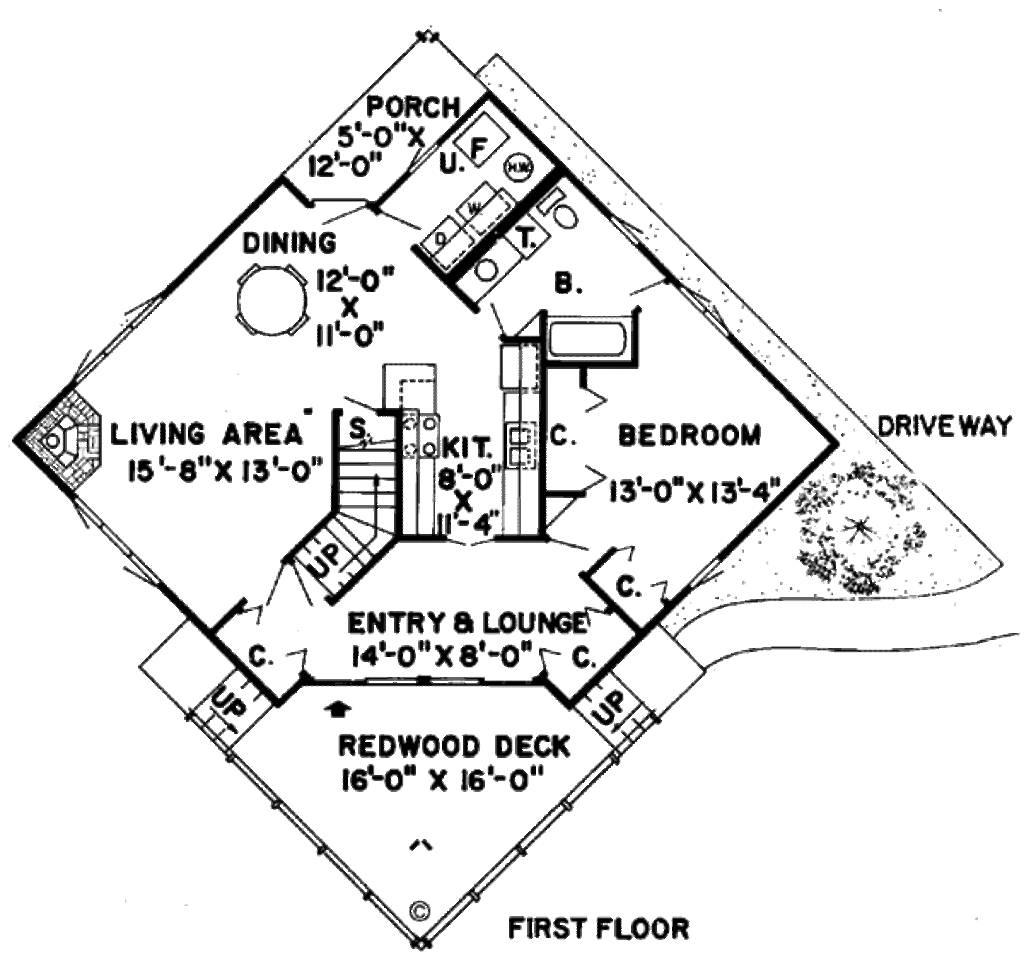large_sink: (533, 191, 585, 239)
round_table: (206, 255, 330, 356)
small_sink: (462, 250, 538, 302)
stairs: (280, 399, 403, 600), (180, 670, 274, 761), (576, 668, 663, 764)
tub: (545, 308, 642, 367)
twin_sink: (501, 417, 545, 473)
window: (60, 496, 165, 597), (79, 282, 179, 380), (671, 273, 745, 346), (362, 671, 483, 686), (606, 214, 648, 255)
